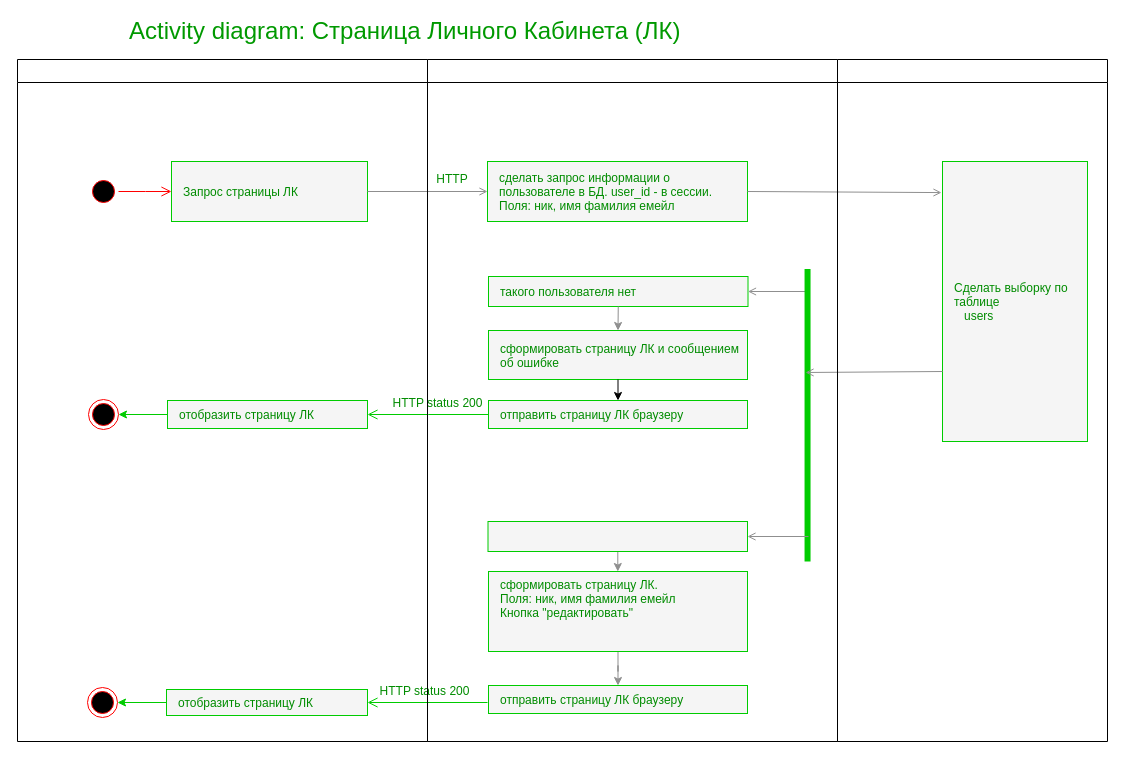
Image size: 1125x759. Some labels were removed from this diagram. Here are the shapes that lost their labels. From the top down, the box of each, then its label:
(16, 58, 428, 742): Браузер
(426, 58, 838, 742): Tomcat
(836, 58, 1108, 742): PostgreSQL
(487, 520, 748, 552): получили данные пользователя
